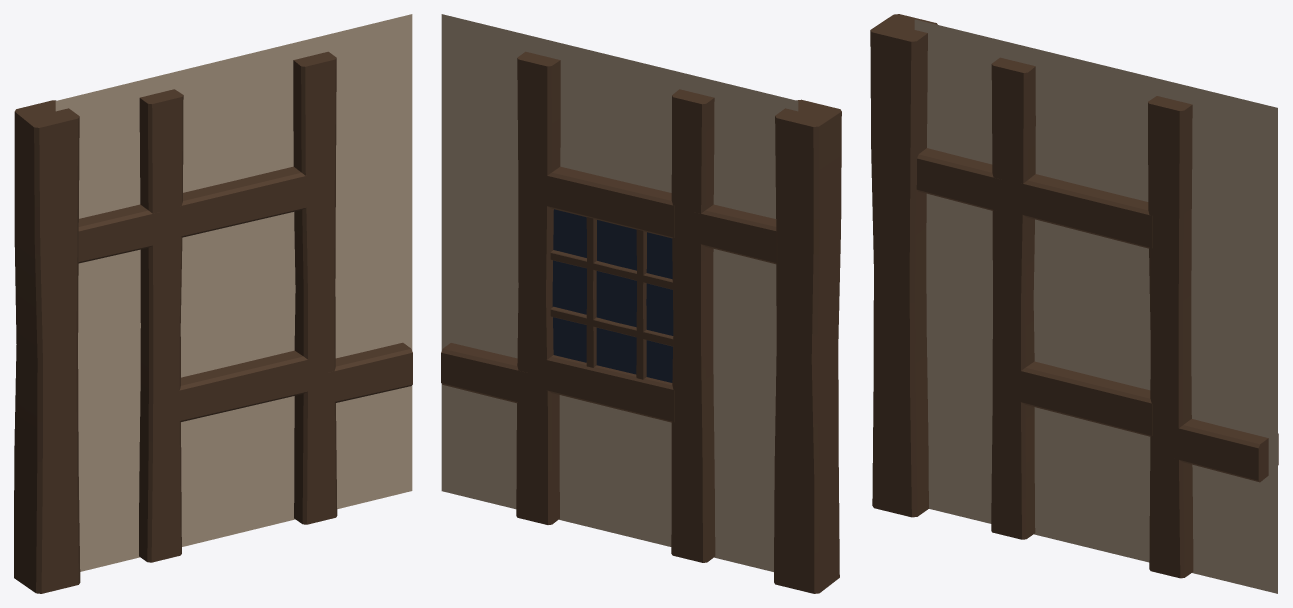
The model's file is WindowWall4.fbx.
3 renders of one model, left to right at view 1: azimuth 30°, elevation 25°; view 2: azimuth 150°, elevation 25°; view 3: azimuth 330°, elevation 25°, orthographic.
Parts seen in each view (by area): view 1: Cube.018; view 2: Cube.018; view 3: Cube.018.
Part boxes in pixels (x1,y1,x2,y2): Cube.018: (14, 14, 412, 593); Cube.018: (441, 14, 841, 593); Cube.018: (870, 14, 1278, 593).
Bounding box in the file's own units: 2.18 × 2.56 × 0.2435.
